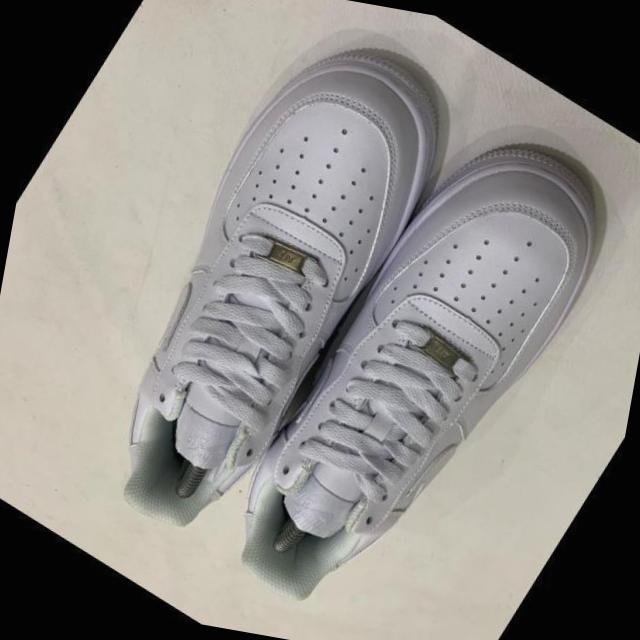nike_fake_airforce: (16, 0, 490, 598), (191, 71, 640, 640)
